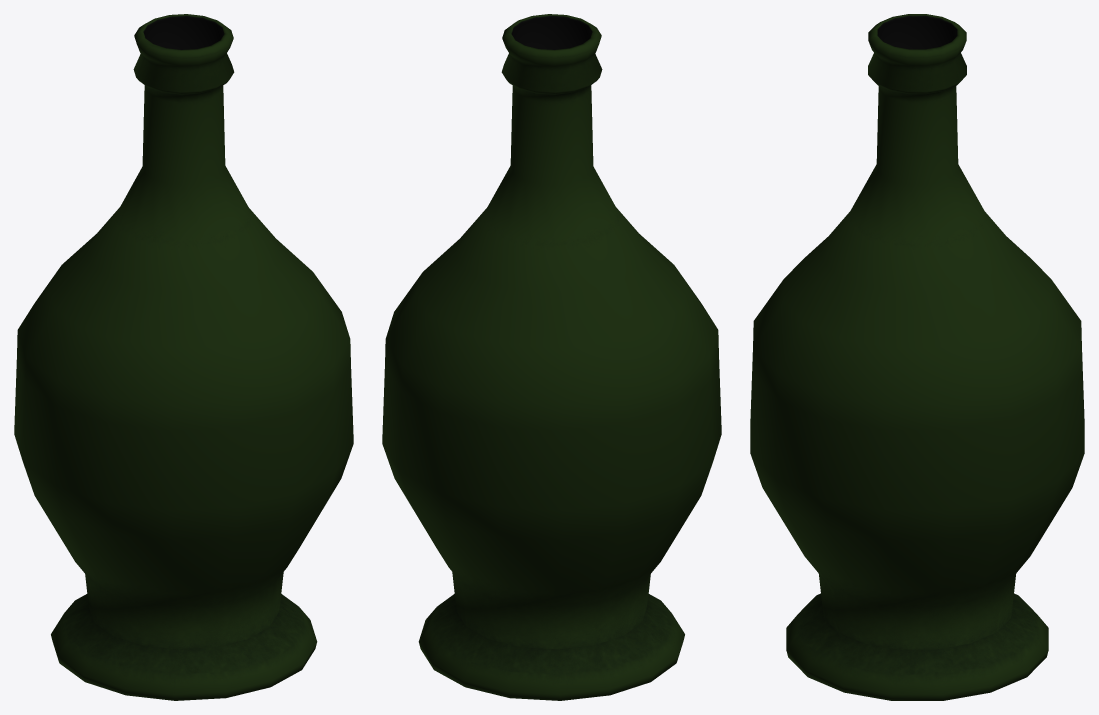
The model's file is B.Prop_bottle_03.fbx.
3 renders of one model, left to right at view 1: azimuth 30°, elevation 25°; view 2: azimuth 150°, elevation 25°; view 3: azimuth 270°, elevation 25°, orthographic.
Visible parts, largest first — view 1: Cylinder; view 2: Cylinder; view 3: Cylinder.
Boxes of the visible parts, x1=… form: Cylinder: x1=14, y1=14, x2=353, y2=700; Cylinder: x1=382, y1=14, x2=721, y2=700; Cylinder: x1=750, y1=14, x2=1084, y2=700.
Bounding box in the file's own units: 400 × 823 × 400.
Materials: 1 (1 with a texture image).
